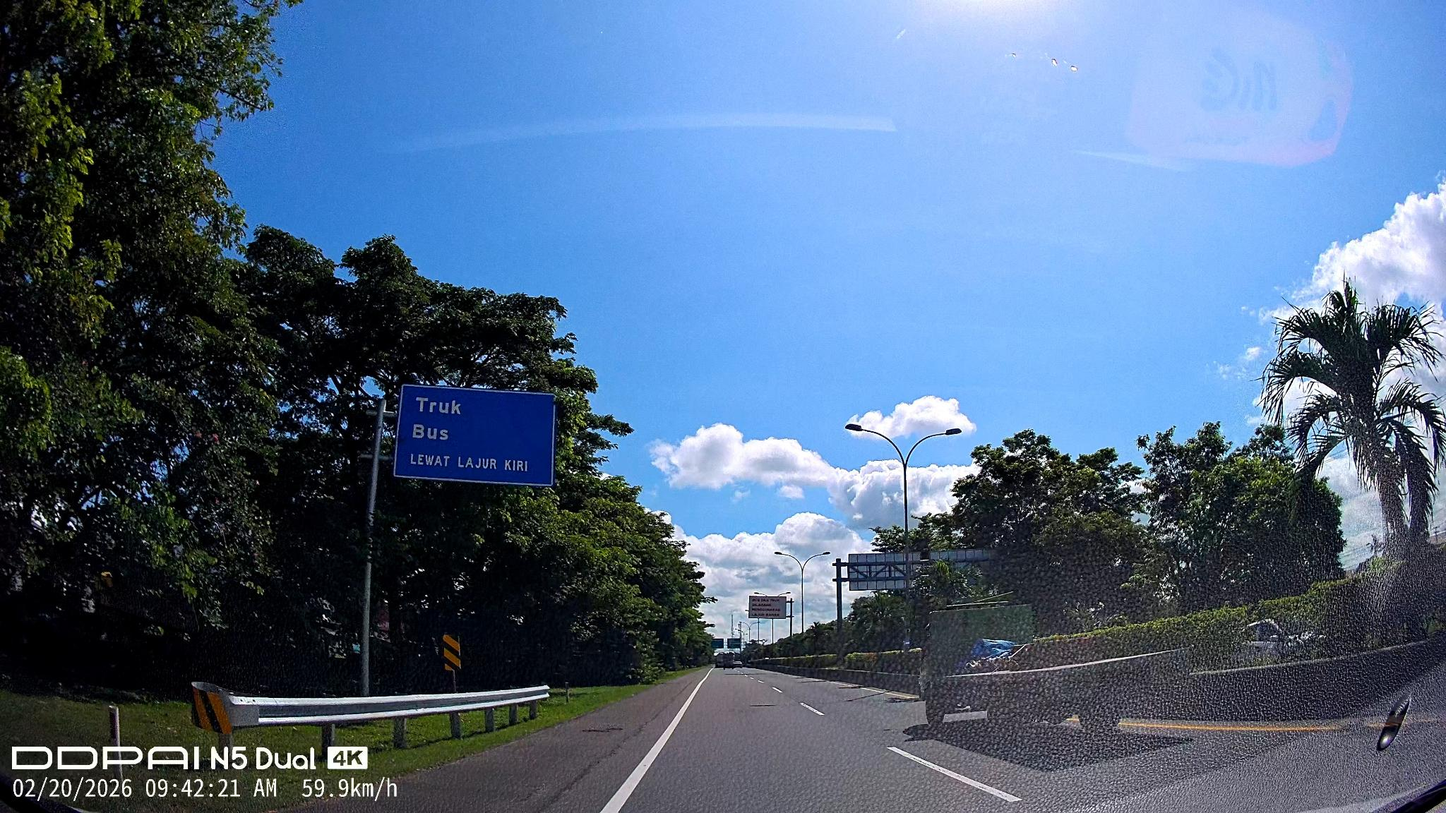rambu_teks: (393, 383, 557, 488)
